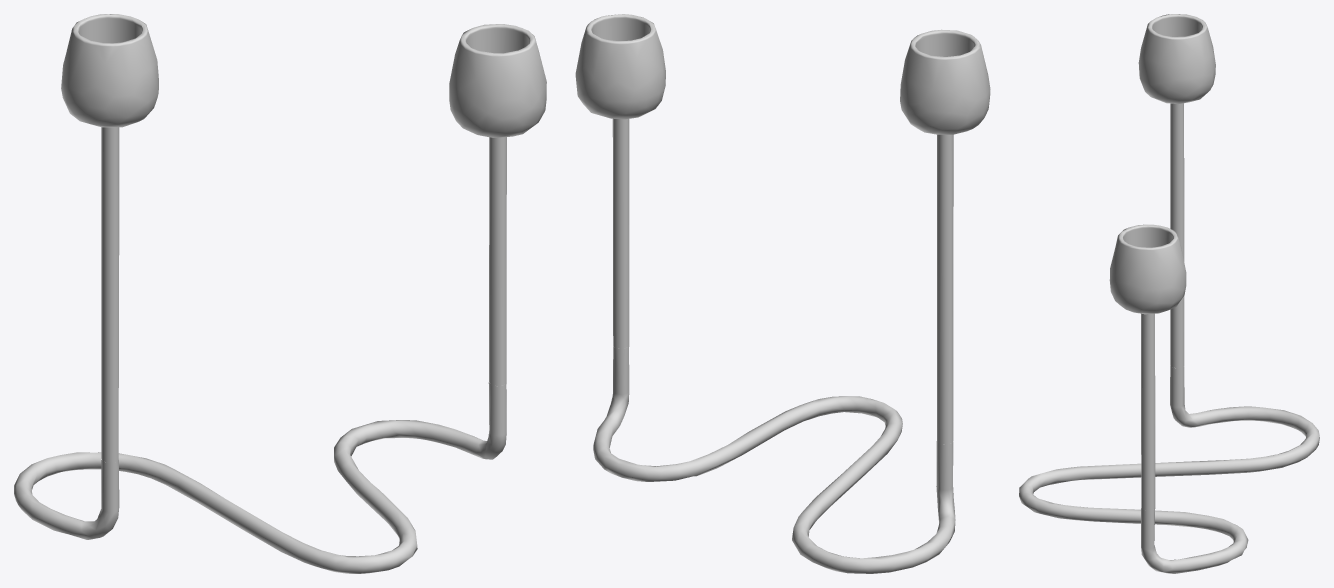
Rendered from silverparon_swiecznik_na_2_swiece_40574987.glb.
3 renders of one model, left to right at view 1: azimuth 30°, elevation 25°; view 2: azimuth 150°, elevation 25°; view 3: azimuth 270°, elevation 25°, orthographic. The views are drawn at different scales.
Visible parts, largest first — view 1: silverparon_swiecznik_na_2_swiece_40574987; view 2: silverparon_swiecznik_na_2_swiece_40574987; view 3: silverparon_swiecznik_na_2_swiece_40574987.
Part boxes in pixels (left/top/right/bottom): silverparon_swiecznik_na_2_swiece_40574987: left=14, top=14, right=546, bottom=573; silverparon_swiecznik_na_2_swiece_40574987: left=575, top=14, right=990, bottom=573; silverparon_swiecznik_na_2_swiece_40574987: left=1019, top=14, right=1319, bottom=573.
Bounding box in the file's own units: 0.1812 × 0.1963 × 0.1317.
1 material, 1 textured.
